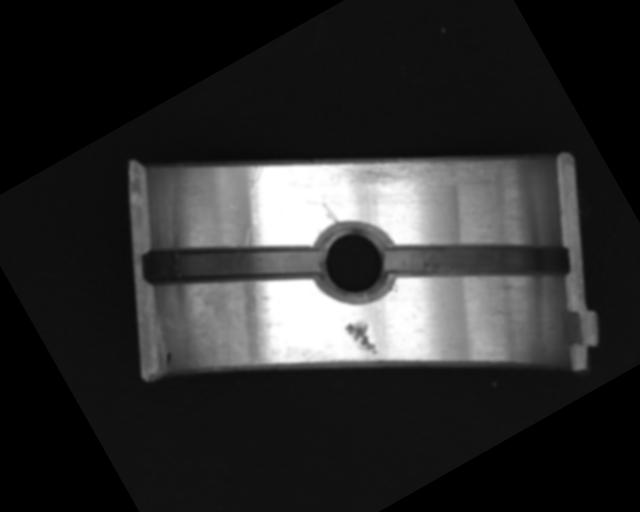blot: (157, 350, 178, 371)
bruise: (342, 316, 380, 362)
gap: (377, 173, 574, 348), (137, 180, 326, 345)
hole: (301, 210, 409, 317)
nick: (228, 163, 288, 229), (319, 199, 339, 227)
scratch: (340, 96, 509, 242)
